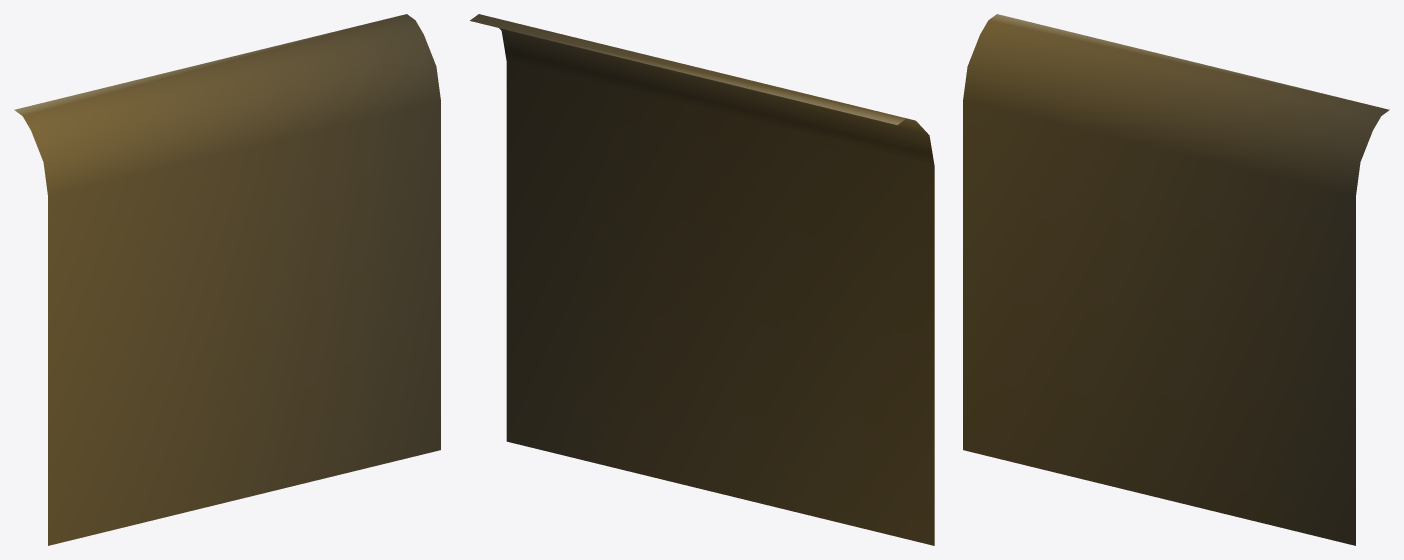
File: Base_WallRoadSide.fbx
3 renders of one model, left to right at view 1: azimuth 30°, elevation 25°; view 2: azimuth 150°, elevation 25°; view 3: azimuth 330°, elevation 25°, orthographic. The views are drawn at different scales.
Visible parts, largest first — view 1: Base_WallRoadSide; view 2: Base_WallRoadSide; view 3: Base_WallRoadSide.
Boxes of the visible parts, bbox=[...] form: Base_WallRoadSide: bbox=[14, 14, 440, 545]; Base_WallRoadSide: bbox=[470, 14, 934, 545]; Base_WallRoadSide: bbox=[963, 14, 1389, 545].
Size of the model in its own units: 2000 by 2000 by 300.
